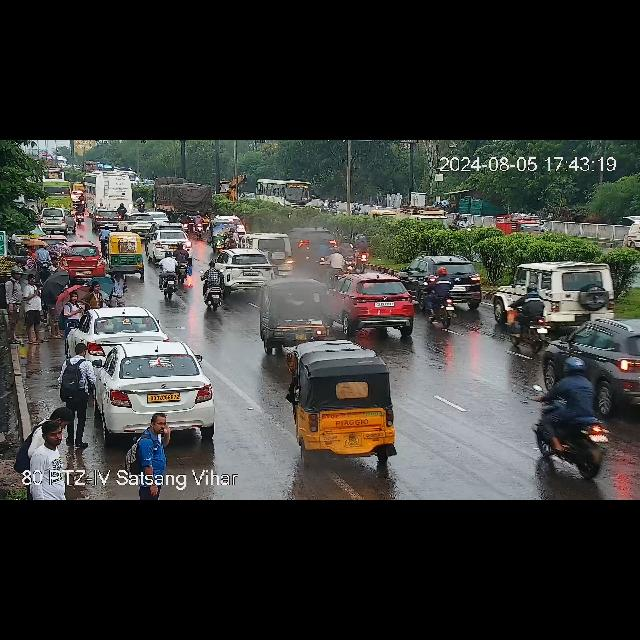bus: (86, 174, 134, 222), (256, 178, 314, 206), (34, 179, 72, 209)
car: (284, 338, 398, 462), (89, 338, 215, 436), (539, 313, 640, 428), (507, 260, 611, 328), (326, 270, 418, 338), (259, 277, 339, 353), (69, 306, 171, 356), (402, 253, 483, 304), (217, 249, 276, 287), (240, 232, 292, 266), (60, 244, 106, 280), (293, 225, 337, 262), (402, 202, 451, 235), (106, 234, 146, 272), (39, 208, 75, 234), (151, 229, 191, 251), (212, 211, 245, 237), (122, 212, 154, 234), (212, 221, 236, 245)
motorcycle: (530, 362, 608, 478), (508, 287, 552, 343), (422, 266, 456, 326), (200, 260, 224, 312), (157, 254, 181, 302), (353, 230, 373, 278), (341, 235, 352, 263)
person: (17, 422, 73, 500), (126, 412, 172, 498), (64, 342, 95, 442), (1, 266, 26, 336), (24, 272, 46, 344), (58, 290, 80, 332), (109, 268, 131, 308), (84, 282, 106, 310)
truck: (154, 180, 212, 218), (492, 212, 544, 238)
